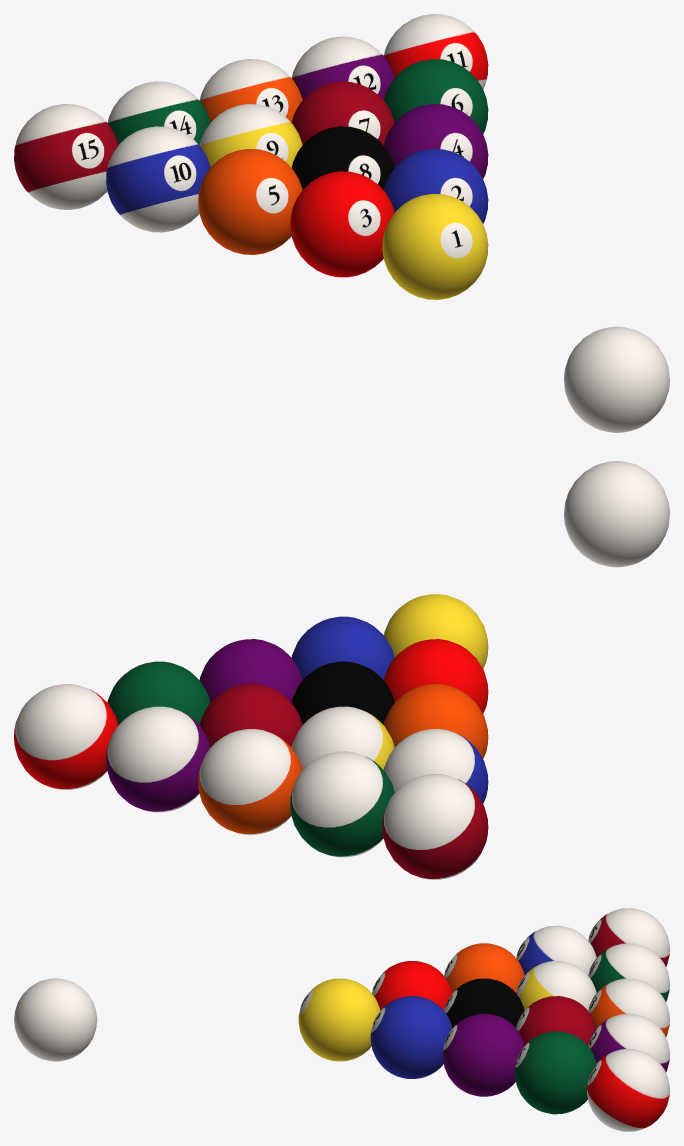
Rendered from billiards_balls.glb.
3 views of the same model, one above another, from view 1: azimuth 30°, elevation 25°; view 2: azimuth 150°, elevation 25°; view 3: azimuth 270°, elevation 25° (orthographic). The views are drawn at different scales.
Visible parts, largest first — view 1: Ball Clube_10 - Default_0, Ball1_01 - Default_0.002, Ball3_03 - Default_0, Ball10_19 - Default_0, Ball5_08 - Default_0, Ball15_06 - Default_0, Ball11_20 - Default_0, Ball6_09 - Default_0, Ball4_07 - Default_0, Ball2_02 - Default_0, Ball8_14 - Default_0, Ball7_13 - Default_0 (+4 smaller); view 2: Ball Clube_10 - Default_0, Ball15_06 - Default_0, Ball12_21 - Default_0, Ball14_05 - Default_0, Ball13_04 - Default_0, Ball11_20 - Default_0, Ball1_01 - Default_0.002, Ball3_03 - Default_0, Ball5_08 - Default_0, Ball10_19 - Default_0, Ball6_09 - Default_0, Ball2_02 - Default_0 (+4 smaller); view 3: Ball Clube_10 - Default_0, Ball11_20 - Default_0, Ball1_01 - Default_0.002, Ball4_07 - Default_0, Ball2_02 - Default_0, Ball6_09 - Default_0, Ball14_05 - Default_0, Ball13_04 - Default_0, Ball15_06 - Default_0, Ball12_21 - Default_0, Ball3_03 - Default_0, Ball5_08 - Default_0 (+4 smaller).
Part boxes in pixels (bbox=[...]): Ball Clube_10 - Default_0: bbox=[564, 326, 669, 432]; Ball1_01 - Default_0.002: bbox=[382, 193, 488, 299]; Ball3_03 - Default_0: bbox=[290, 171, 394, 277]; Ball10_19 - Default_0: bbox=[106, 126, 210, 232]; Ball5_08 - Default_0: bbox=[198, 149, 302, 254]; Ball15_06 - Default_0: bbox=[14, 104, 118, 209]; Ball11_20 - Default_0: bbox=[383, 14, 488, 88]; Ball6_09 - Default_0: bbox=[384, 59, 488, 133]; Ball4_07 - Default_0: bbox=[384, 104, 488, 178]; Ball2_02 - Default_0: bbox=[383, 149, 488, 223]; Ball8_14 - Default_0: bbox=[291, 126, 394, 189]; Ball7_13 - Default_0: bbox=[291, 81, 394, 145]; Ball Clube_10 - Default_0: bbox=[564, 461, 669, 567]; Ball15_06 - Default_0: bbox=[382, 774, 488, 879]; Ball12_21 - Default_0: bbox=[106, 706, 210, 812]; Ball14_05 - Default_0: bbox=[290, 751, 394, 857]; Ball13_04 - Default_0: bbox=[198, 729, 302, 834]; Ball11_20 - Default_0: bbox=[14, 684, 118, 789]; Ball1_01 - Default_0.002: bbox=[384, 594, 488, 668]; Ball3_03 - Default_0: bbox=[384, 639, 488, 713]; Ball5_08 - Default_0: bbox=[384, 684, 488, 758]; Ball10_19 - Default_0: bbox=[384, 729, 488, 803]; Ball6_09 - Default_0: bbox=[107, 661, 210, 724]; Ball2_02 - Default_0: bbox=[291, 616, 394, 679]; Ball Clube_10 - Default_0: bbox=[14, 978, 97, 1061]; Ball11_20 - Default_0: bbox=[587, 1049, 669, 1131]; Ball1_01 - Default_0.002: bbox=[298, 978, 380, 1061]; Ball4_07 - Default_0: bbox=[442, 1013, 524, 1096]; Ball2_02 - Default_0: bbox=[370, 996, 452, 1078]; Ball6_09 - Default_0: bbox=[515, 1031, 596, 1114]; Ball14_05 - Default_0: bbox=[588, 943, 669, 1001]; Ball13_04 - Default_0: bbox=[588, 978, 669, 1036]; Ball15_06 - Default_0: bbox=[588, 908, 669, 966]; Ball12_21 - Default_0: bbox=[588, 1013, 669, 1072]; Ball3_03 - Default_0: bbox=[372, 961, 452, 1010]; Ball5_08 - Default_0: bbox=[444, 943, 524, 992].
Size of the model in its own units: 0.2857 by 0.0572 by 0.4503.
16 materials, 16 textured.
